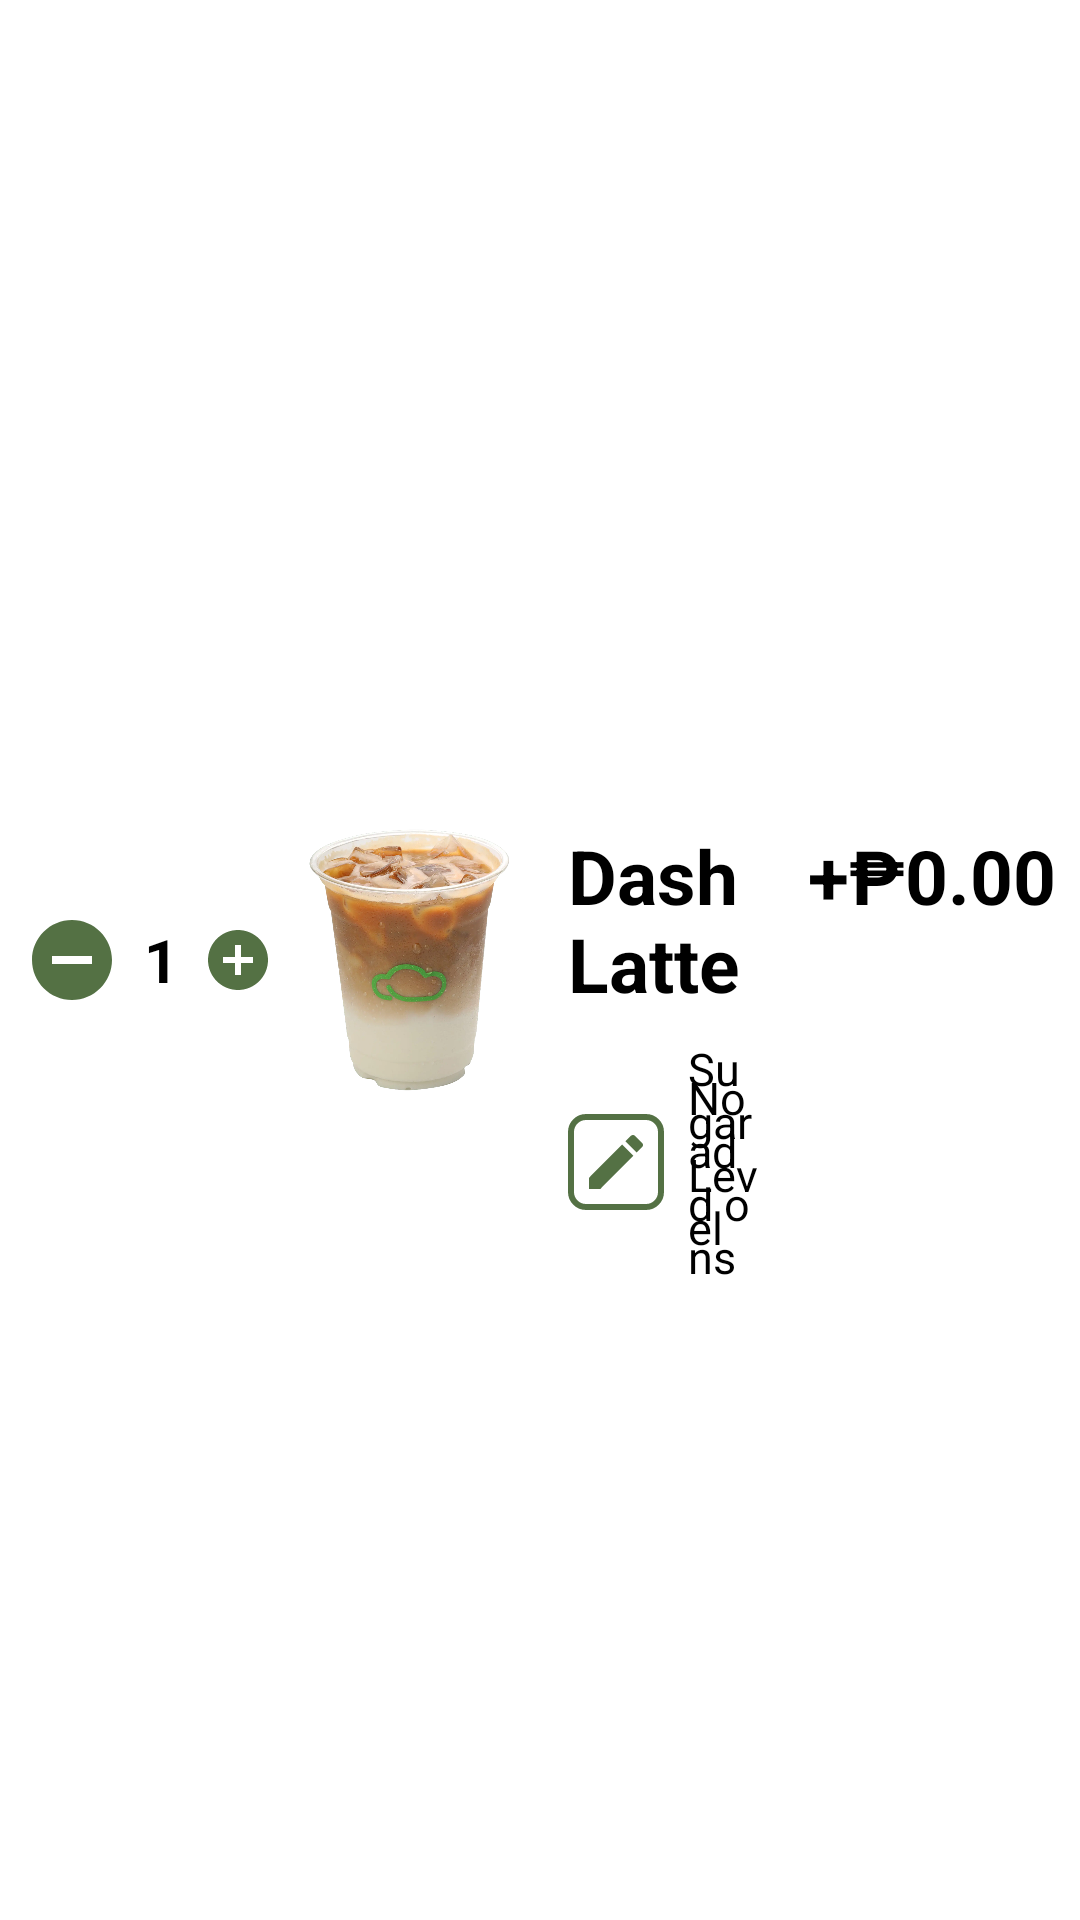

Screen size 1080px×1920px. Icon name, then its box in pixels as (x1, y1, x2, y2):
icon to decrement quantity: (32, 920, 112, 1000)
icon to edit details: (568, 1114, 664, 1210)
item picture: (309, 830, 509, 1090)
plus icon to increment quantity: (208, 930, 268, 990)
